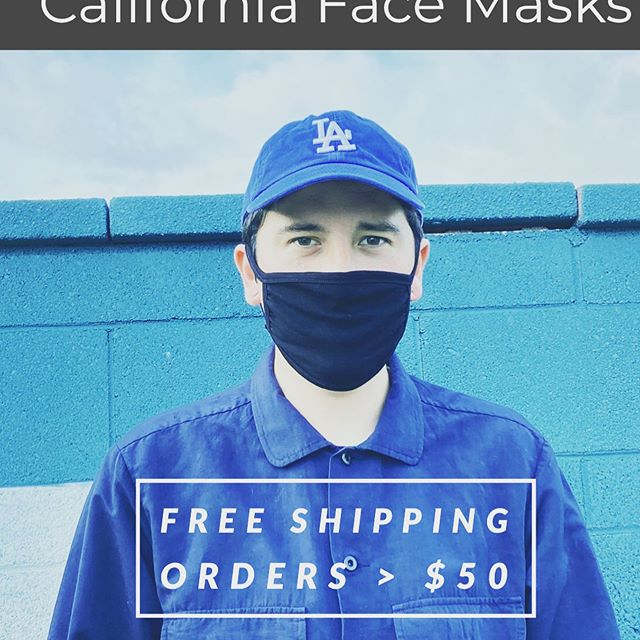homemade: (244, 254, 430, 390)
